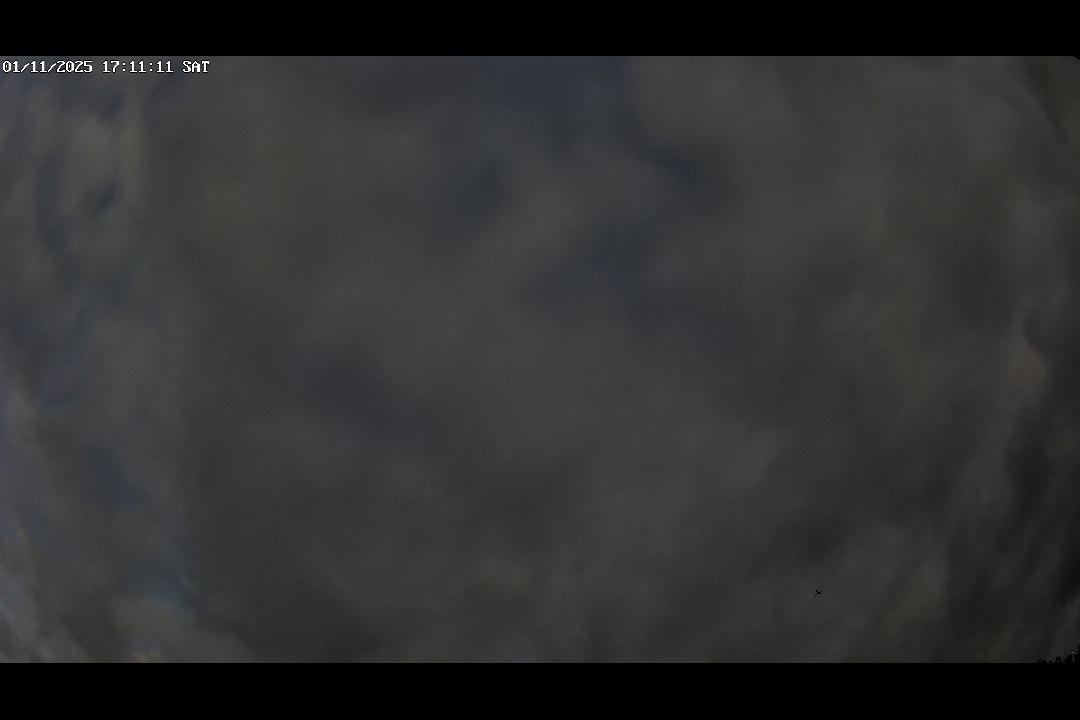Plane: (802, 586, 831, 599)
